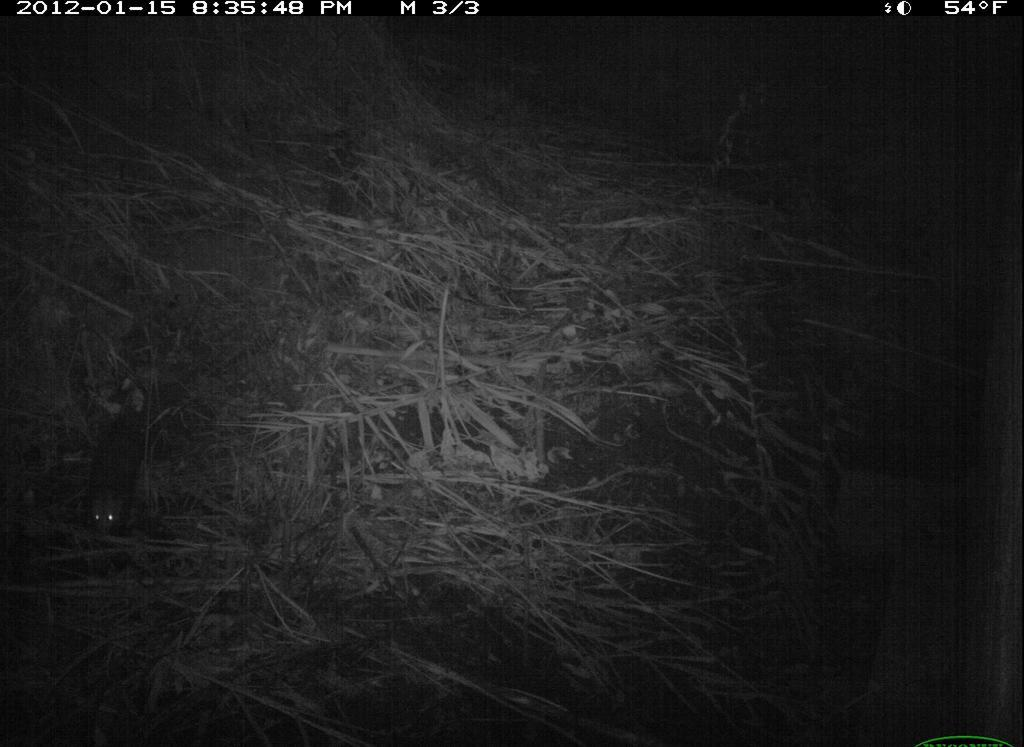opossum: (70, 363, 161, 556)
